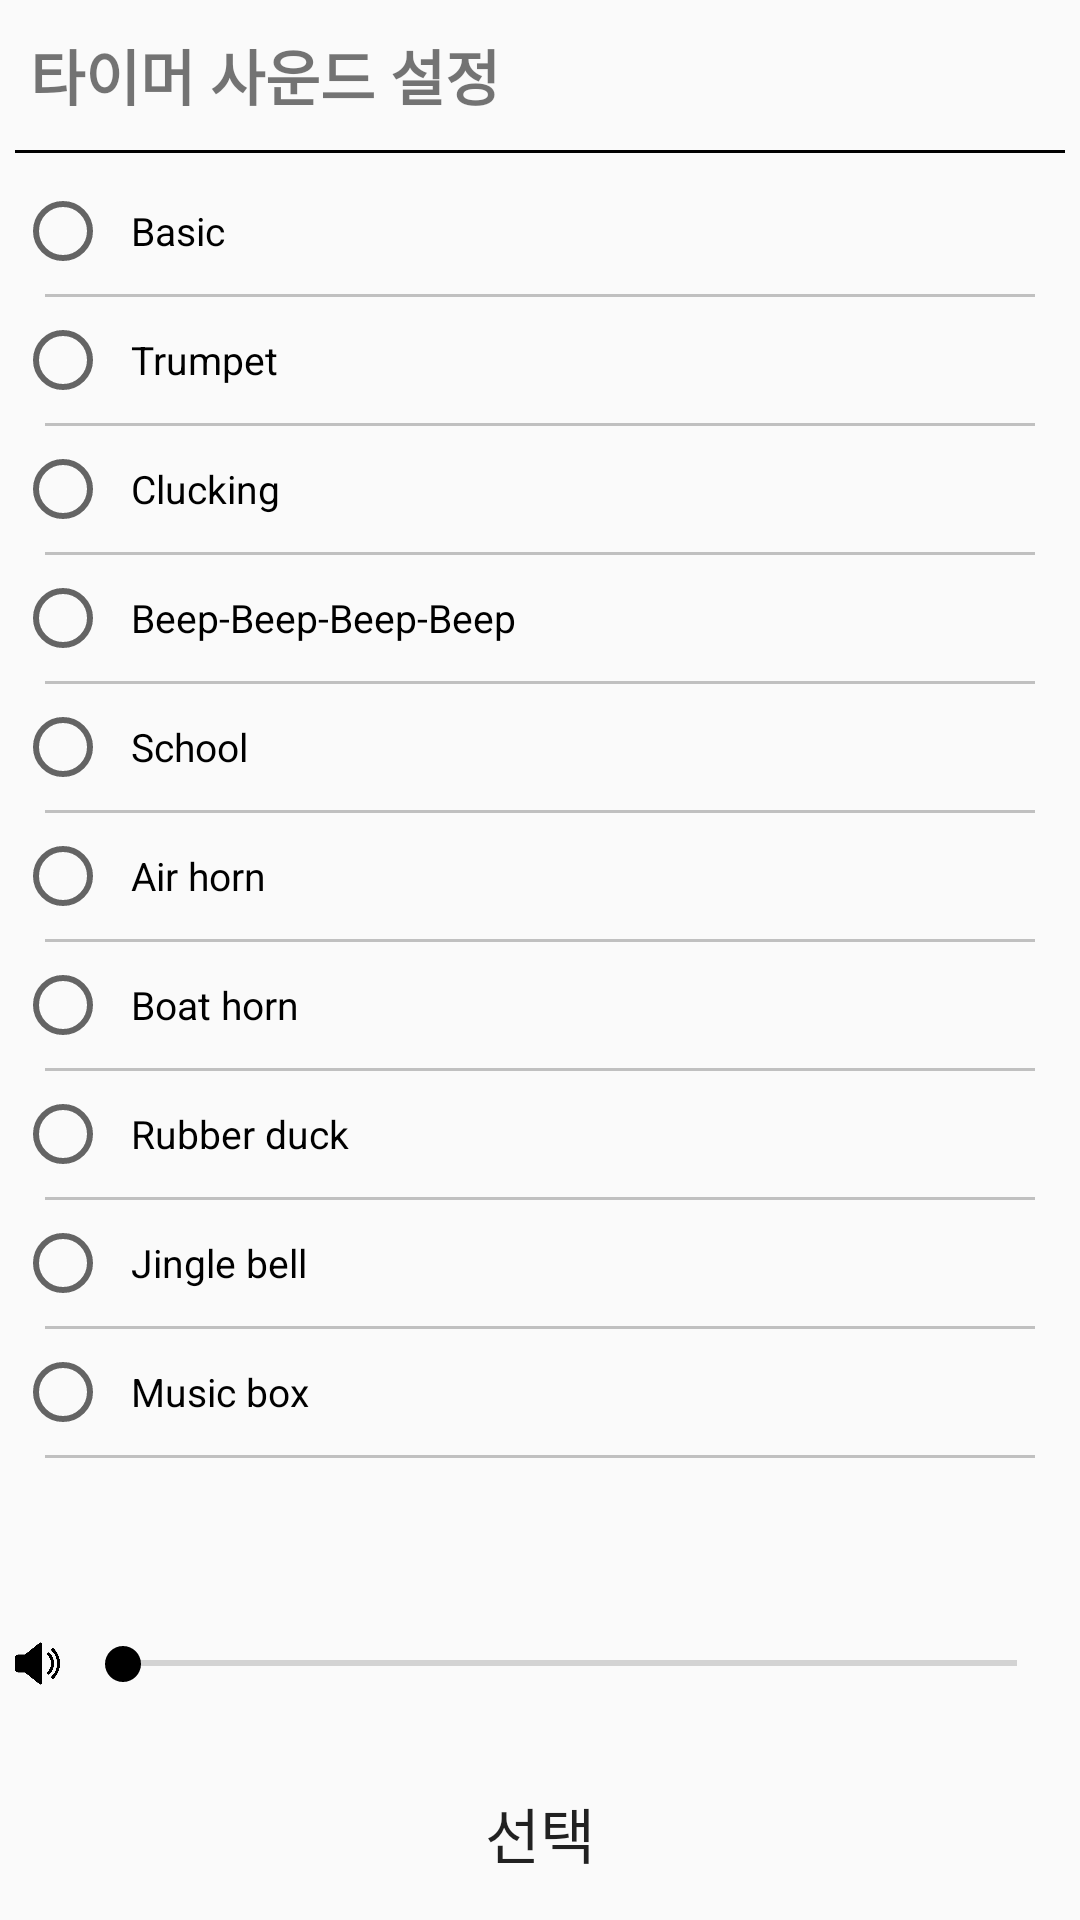

Screen size 1080x1920. Icon name, then its center in pixels as [x,y]:
volume: [37,1663]
